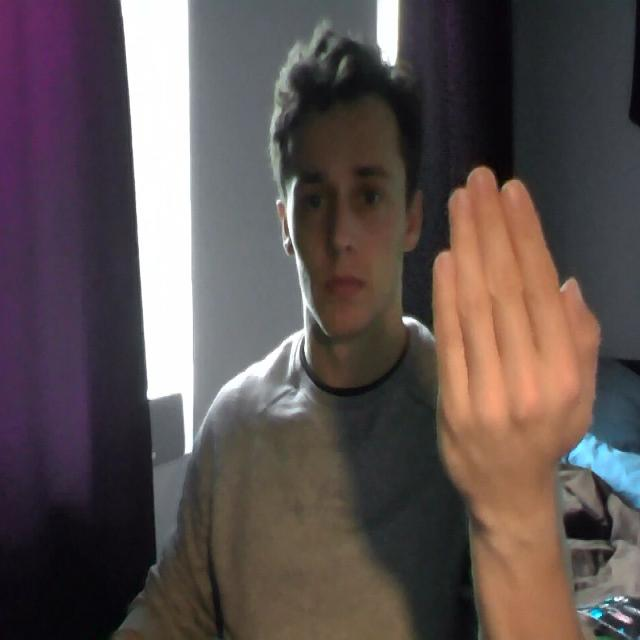forward: (391, 156, 605, 550)
